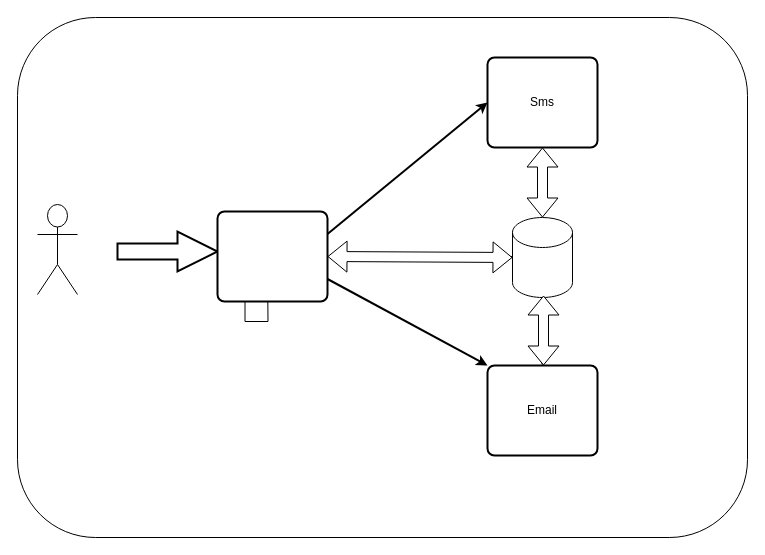
This 765x555 diagram has some shape labels left out. Each missing label, with the centre of its shape:
"Actor" belongs at (57,249).
"Pedidos" belongs at (272,256).
